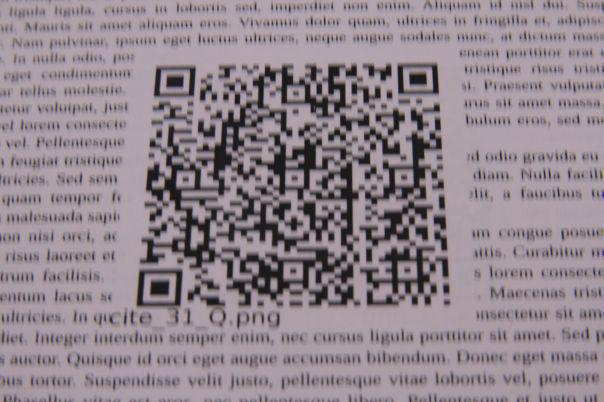Finder pattern: (135, 267, 188, 309), (393, 59, 444, 99), (150, 62, 202, 100)
